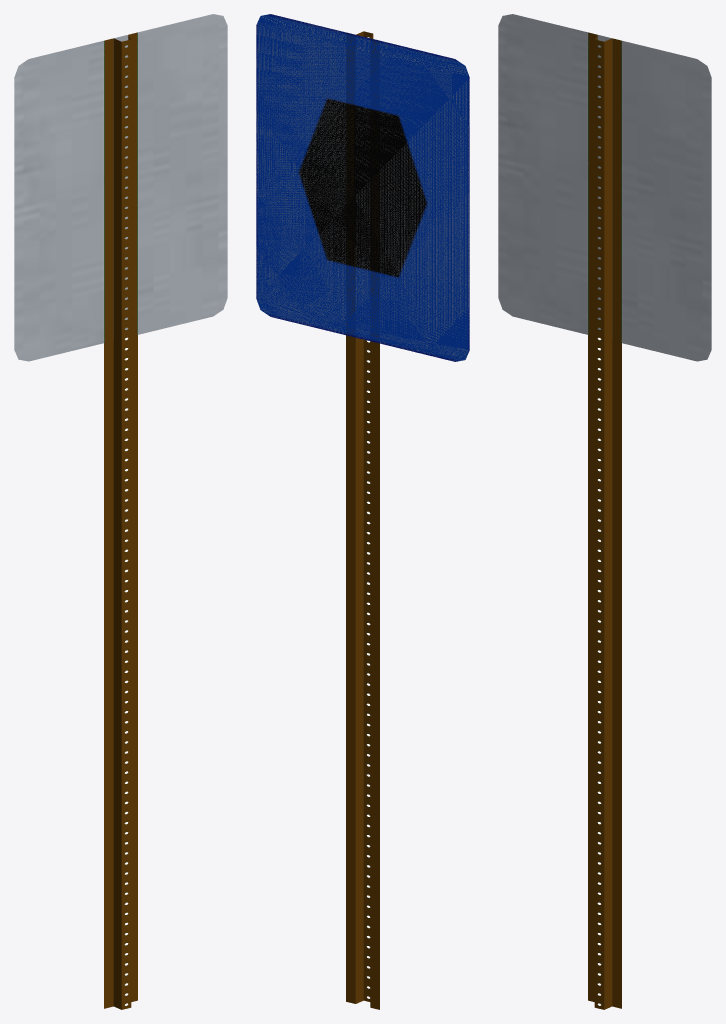
The model's file is stop.dae.
3 views of the same model, side by side, from view 1: azimuth 30°, elevation 25°; view 2: azimuth 150°, elevation 25°; view 3: azimuth 330°, elevation 25° (orthographic).
Visible parts, largest first — view 1: group_1, Component_11 (×2), Component_10, Component_12; view 2: group_1, Component_11 (×2), Component_12, Component_10; view 3: group_1, Component_11 (×2), Component_10, Component_12.
Part boxes in pixels (x1=…): group_1: x1=14, y1=14, x2=227, y2=361; Component_11 (×2): x1=104, y1=335, x2=137, y2=1008; Component_10: x1=121, y1=39, x2=131, y2=1009; Component_12: x1=113, y1=38, x2=121, y2=1009; group_1: x1=256, y1=14, x2=469, y2=361; Component_11 (×2): x1=346, y1=335, x2=379, y2=1009; Component_12: x1=355, y1=31, x2=363, y2=1003; Component_10: x1=363, y1=31, x2=372, y2=1001; group_1: x1=498, y1=14, x2=711, y2=361; Component_11 (×2): x1=588, y1=335, x2=621, y2=1008; Component_10: x1=594, y1=39, x2=604, y2=1009; Component_12: x1=604, y1=38, x2=612, y2=1009.
Bounding box in the file's own units: 22.14 × 1 × 96.
